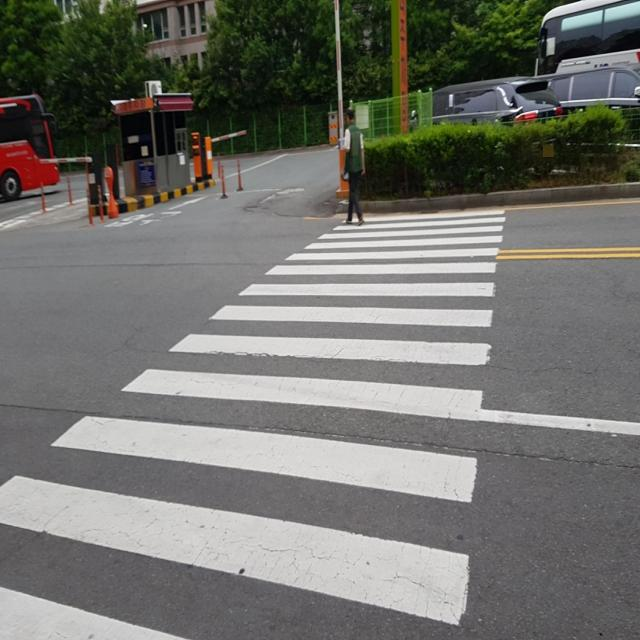횡단보도: (0, 209, 507, 640)
